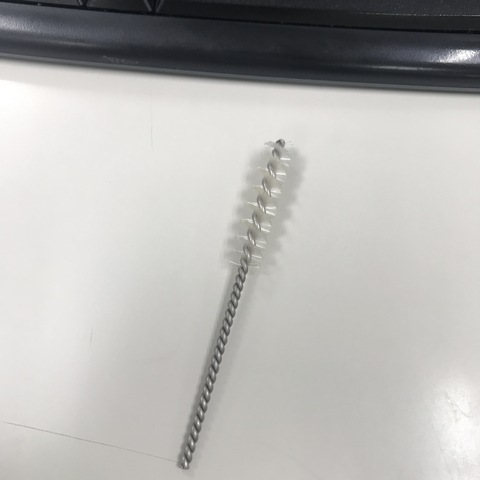Twist Brush-B: (177, 138, 302, 473)
